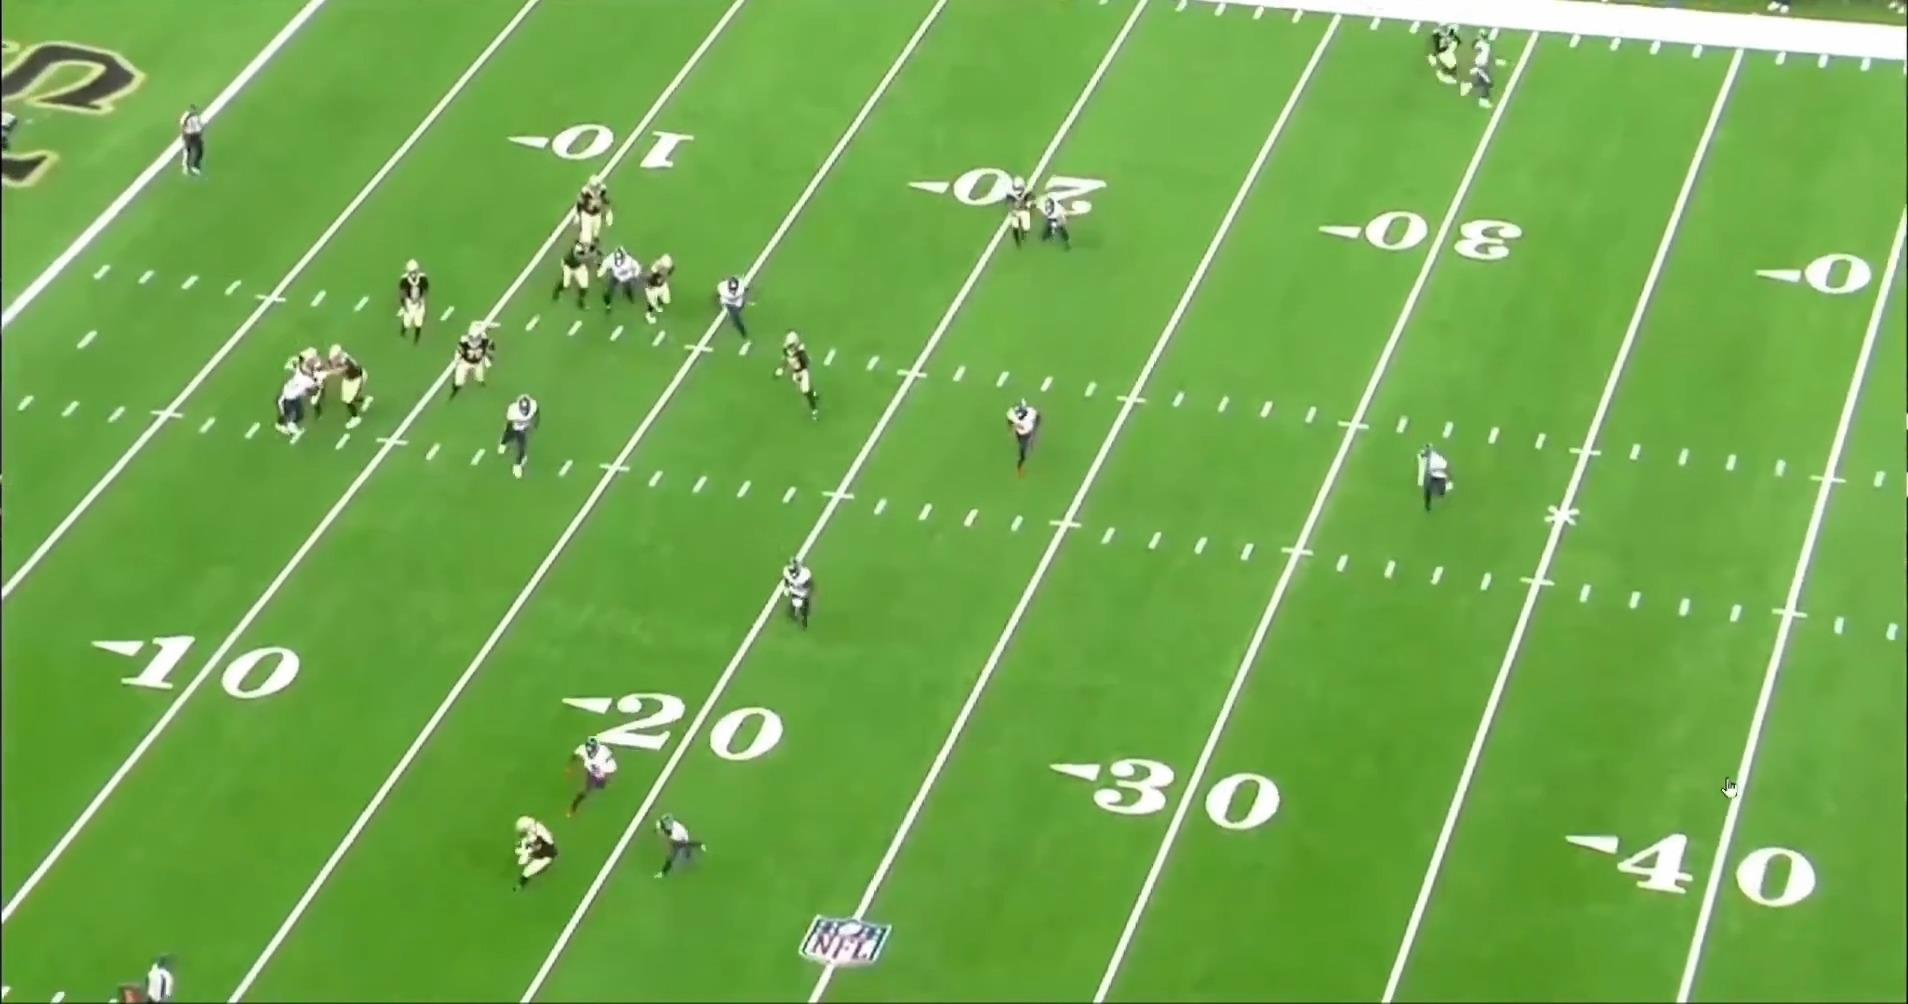player: (315, 344, 378, 434), (266, 348, 324, 441), (557, 736, 616, 821), (438, 322, 497, 401), (498, 389, 550, 477), (775, 327, 825, 418), (549, 237, 609, 311), (505, 813, 557, 895), (652, 816, 709, 889), (590, 248, 649, 318), (568, 176, 617, 259), (631, 248, 682, 325), (1453, 31, 1500, 112), (714, 269, 766, 341), (390, 253, 430, 345), (775, 561, 822, 638), (1001, 396, 1046, 475), (1420, 18, 1467, 92), (1410, 445, 1454, 521), (997, 173, 1034, 255), (1039, 187, 1080, 257), (284, 343, 331, 382)
ref: (178, 101, 216, 186), (140, 951, 191, 1003)
